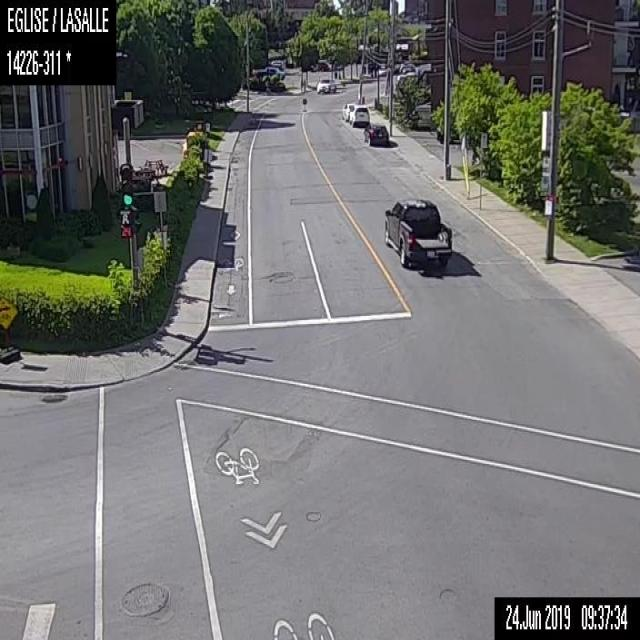vehicle: (382, 194, 452, 270), (362, 122, 389, 146), (347, 104, 369, 126), (252, 64, 283, 79), (316, 76, 336, 93), (341, 102, 354, 120)
